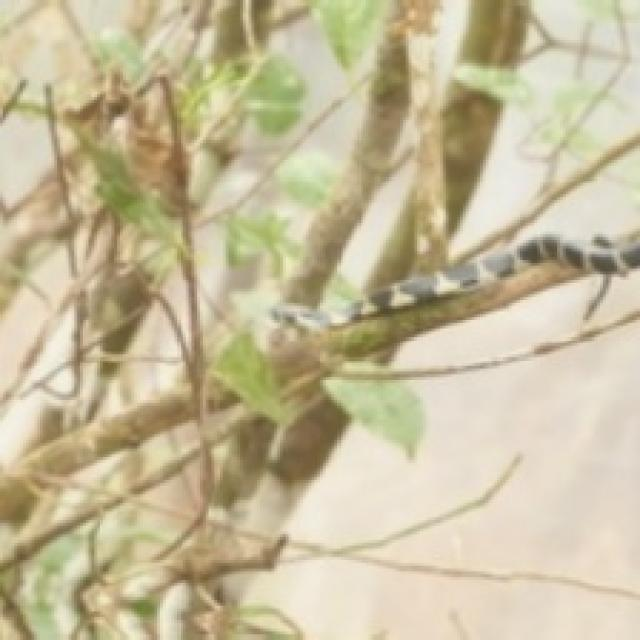king cobra: (271, 229, 637, 329)
